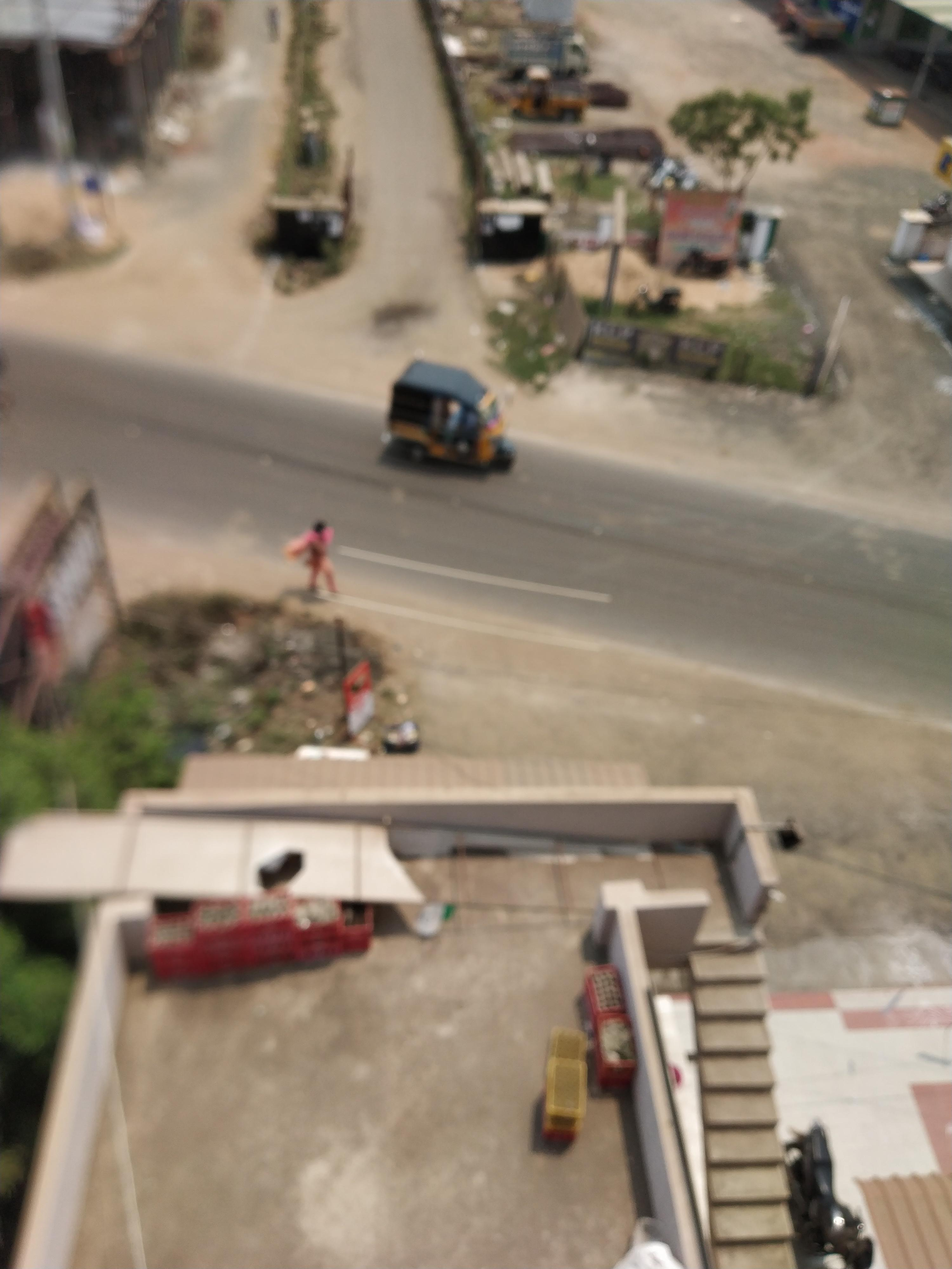non-ambulance: (328, 313, 557, 503)
